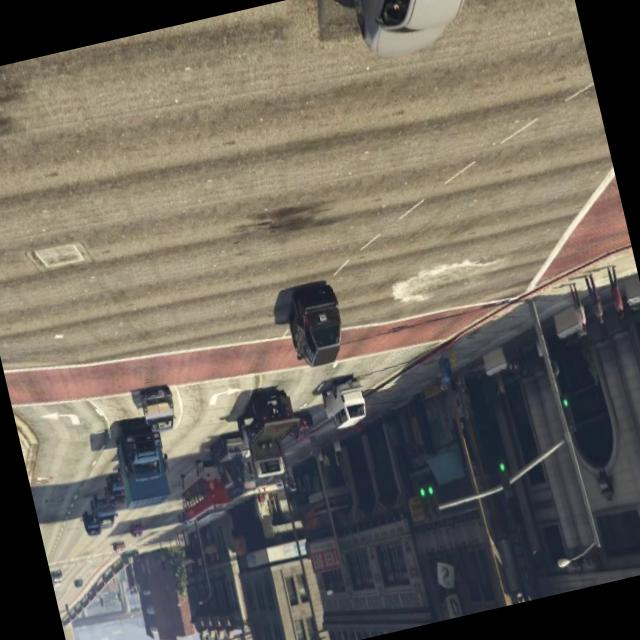Green-Signal: (409, 469, 450, 533), (492, 453, 518, 503), (556, 387, 579, 438)
